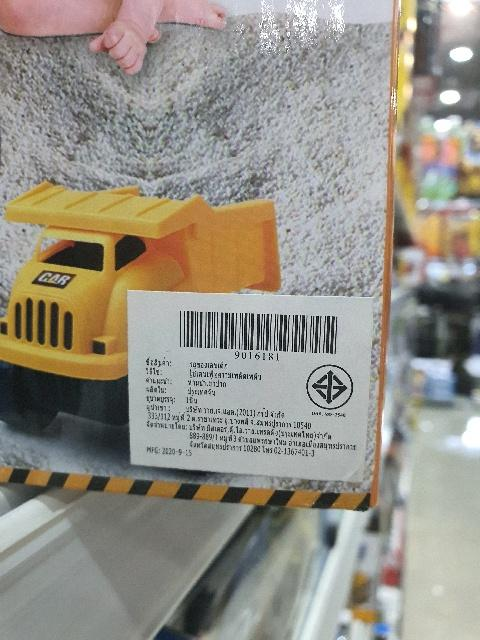Barcode: (168, 304, 347, 359)
